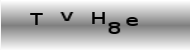8: (107, 21, 121, 35)
H: (90, 11, 106, 25)
T: (28, 12, 45, 26)
e: (125, 16, 140, 27)
v: (59, 11, 75, 22)
